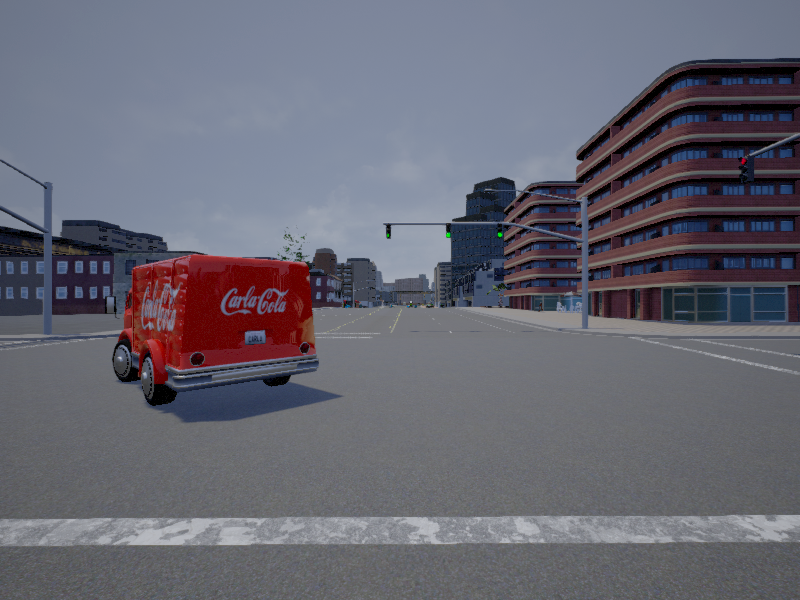Benign: (112, 256, 319, 405)
